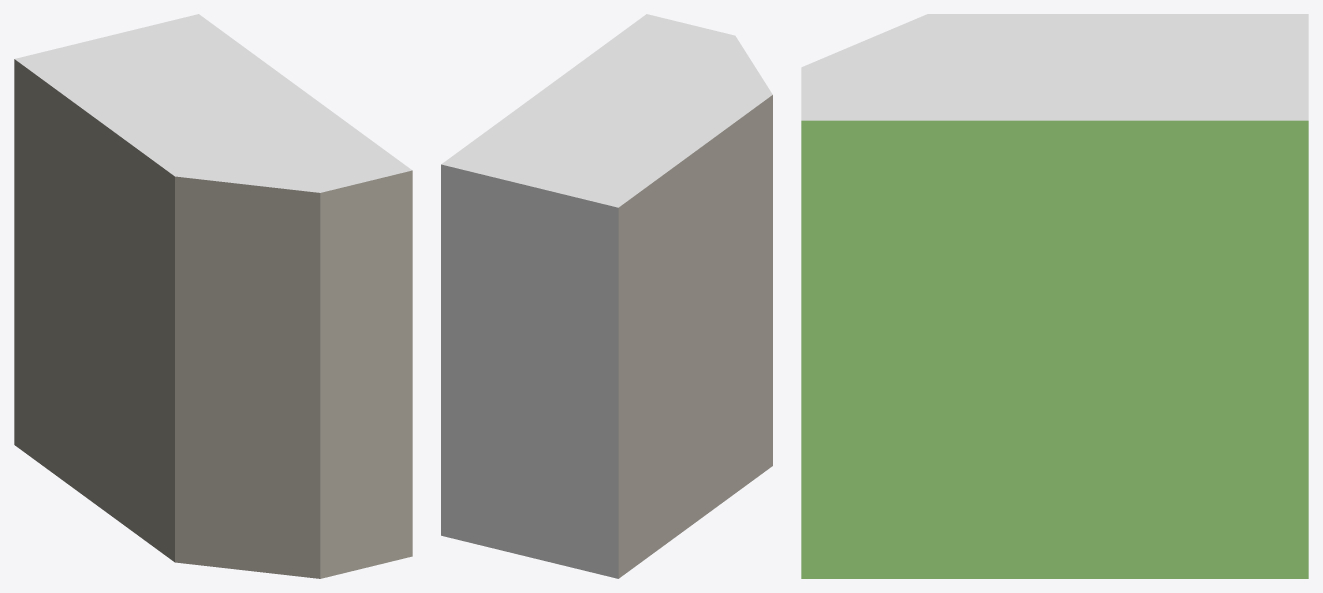
File: Cave_Edge_Straight_Mid_1x1.glb
The picture shows the model from 3 angles, left to right: view 1: azimuth 30°, elevation 25°; view 2: azimuth 150°, elevation 25°; view 3: azimuth 270°, elevation 25°; orthographic projection. The views are drawn at different scales.
Visible parts, largest first — view 1: Cave_Edge_Straight_Mid_1x1; view 2: Cave_Edge_Straight_Mid_1x1; view 3: Cave_Edge_Straight_Mid_1x1.
Part boxes in pixels (x1,y1,x2,y2): Cave_Edge_Straight_Mid_1x1: [14, 14, 412, 578]; Cave_Edge_Straight_Mid_1x1: [441, 14, 772, 578]; Cave_Edge_Straight_Mid_1x1: [801, 14, 1308, 578].
Bounding box in the file's own units: 50 × 100 × 100.
